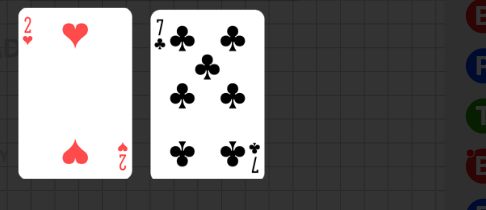2H: (115, 141, 128, 172)
7C: (248, 141, 263, 175)
